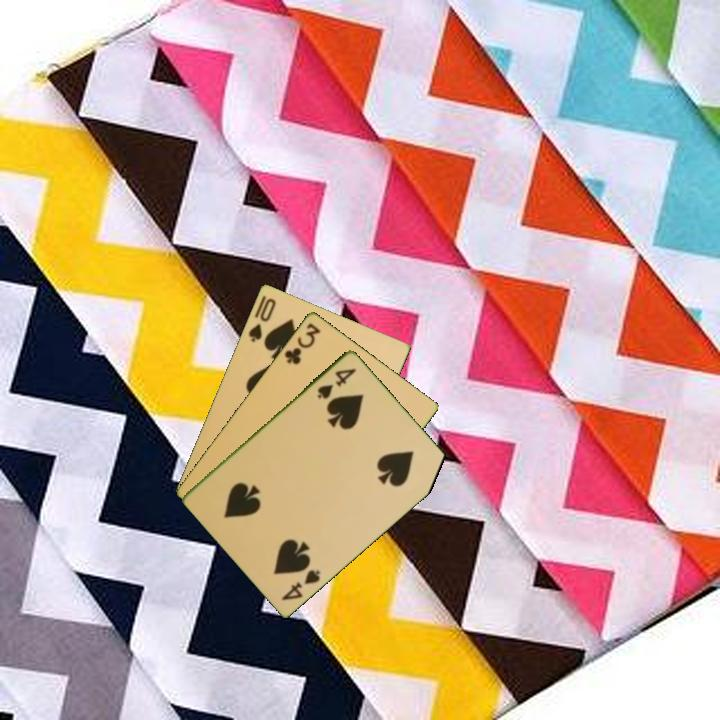10s: (244, 294, 279, 345)
3c: (281, 319, 323, 367)
4s: (278, 565, 323, 603), (313, 364, 359, 401)
